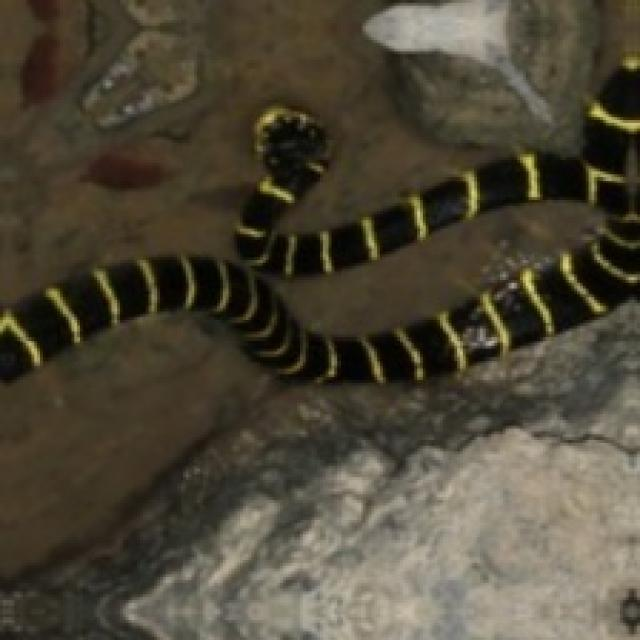mangrove cat snake: (0, 60, 637, 380), (263, 197, 609, 334)
